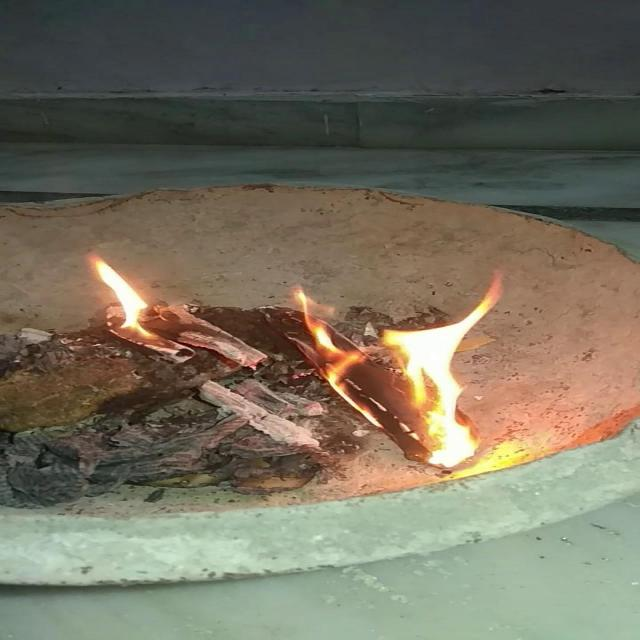fire: (291, 265, 516, 473), (66, 248, 196, 365)
